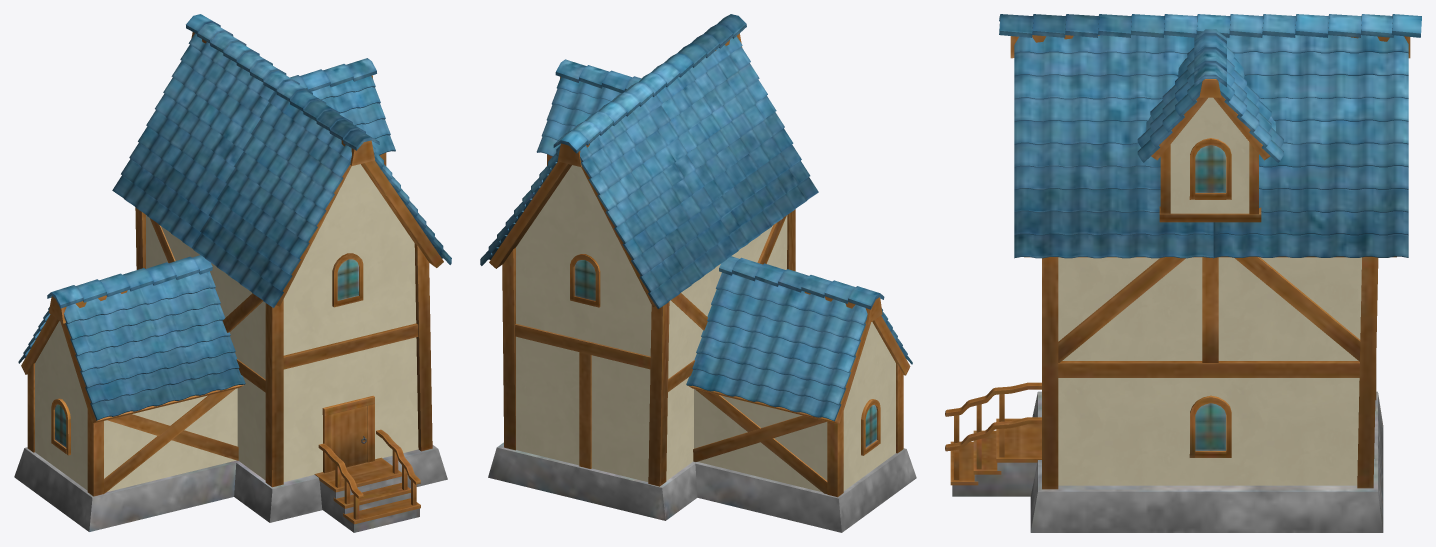
The model's file is SM_Mill.glb.
3 views of the same model, side by side, from view 1: azimuth 30°, elevation 25°; view 2: azimuth 150°, elevation 25°; view 3: azimuth 270°, elevation 25° (orthographic). The views are drawn at different scales.
Parts seen in each view (by area): view 1: SM_Mill; view 2: SM_Mill; view 3: SM_Mill.
Boxes of the visible parts, box(x1,y1,x2,y2) form: SM_Mill: box(14, 14, 451, 532); SM_Mill: box(480, 14, 916, 532); SM_Mill: box(945, 14, 1421, 532).
Bounding box in the file's own units: 11.4 × 12.57 × 11.79.
3 materials, 3 textured.
